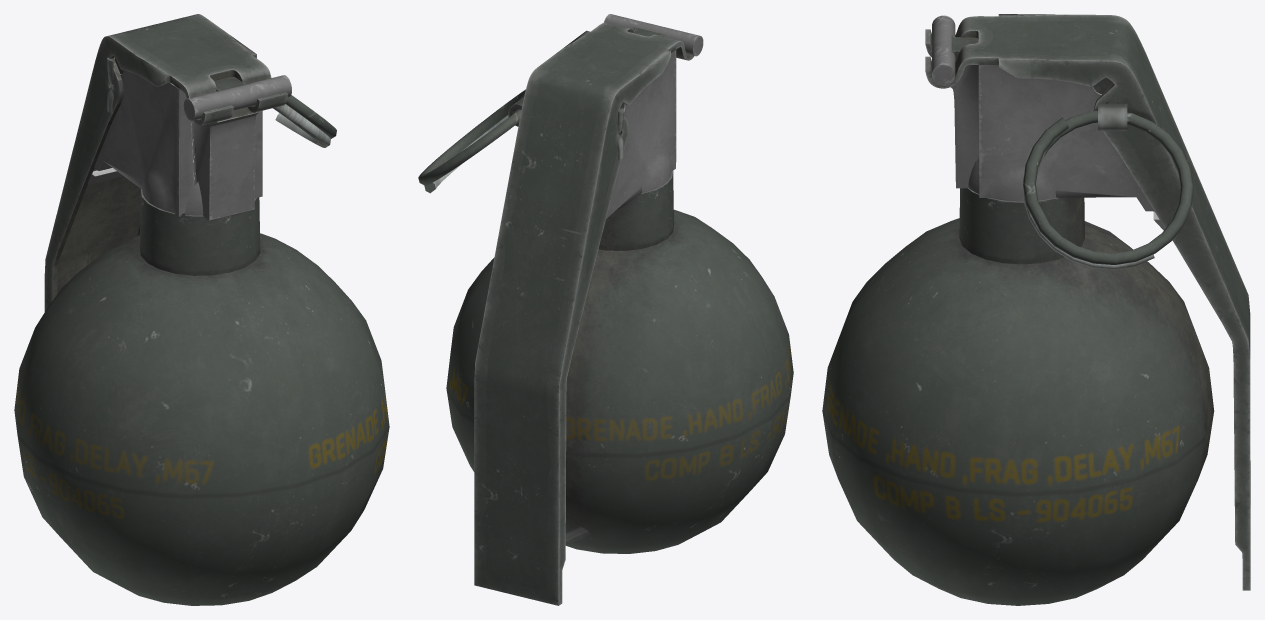
File: fps_guns_4k_-_frag_granade.glb
3 renders of one model, left to right at view 1: azimuth 30°, elevation 25°; view 2: azimuth 150°, elevation 25°; view 3: azimuth 270°, elevation 25°, orthographic. The views are drawn at different scales.
Visible parts, largest first — view 1: sphere, polySurface13, metal_part, cyclinder, ringSmoke_Grende; view 2: sphere, polySurface13, metal_part, ringSmoke_Grende, cyclinder; view 3: sphere, polySurface13, metal_part, ringSmoke_Grende, cyclinder, hook_cylinder.
Boxes of the visible parts, x1,y1,x2,y2 form: sphere: [14, 189, 389, 605]; polySurface13: [44, 14, 287, 311]; metal_part: [87, 57, 262, 220]; cyclinder: [183, 75, 291, 120]; ringSmoke_Grende: [273, 95, 336, 147]; sphere: [446, 170, 793, 553]; polySurface13: [474, 22, 694, 605]; metal_part: [606, 27, 676, 218]; ringSmoke_Grende: [418, 89, 525, 193]; cyclinder: [604, 14, 703, 56]; sphere: [822, 188, 1214, 605]; polySurface13: [925, 14, 1250, 590]; metal_part: [951, 34, 1164, 230]; ringSmoke_Grende: [1023, 111, 1193, 269]; cyclinder: [932, 15, 955, 85]; hook_cylinder: [1098, 103, 1127, 131].
Bounding box in the file's own units: 0.0586 × 0.0907 × 0.0641.
3 materials, 3 textured.
